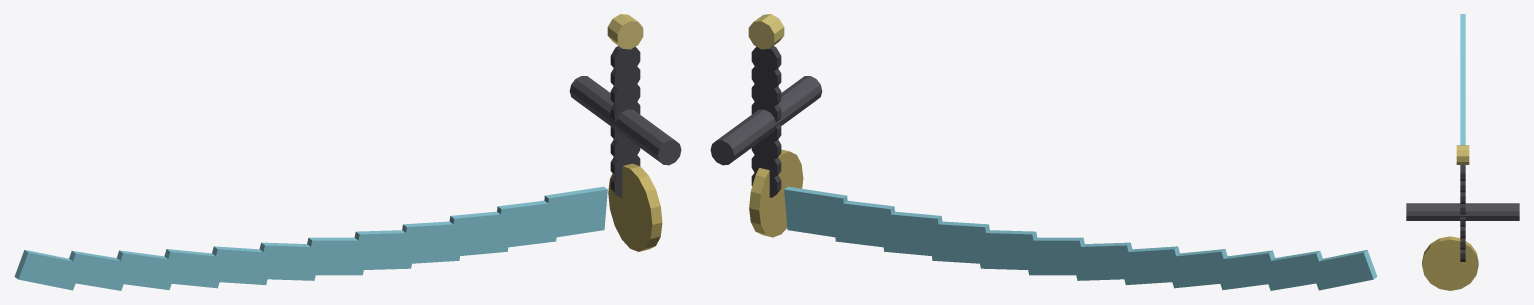
The model's file is buz_katana.glb.
3 renders of one model, left to right at view 1: azimuth 30°, elevation 25°; view 2: azimuth 150°, elevation 25°; view 3: azimuth 270°, elevation 25°, orthographic. The views are drawn at different scales.
Visible parts, largest first — view 1: geometry_0; view 2: geometry_0; view 3: geometry_0.
Boxes of the visible parts, x1=… form: geometry_0: x1=14, y1=14, x2=681, y2=290; geometry_0: x1=710, y1=14, x2=1377, y2=290; geometry_0: x1=1406, y1=14, x2=1519, y2=290.
Size of the model in its own units: 0.7333 by 0.251 by 0.18.
